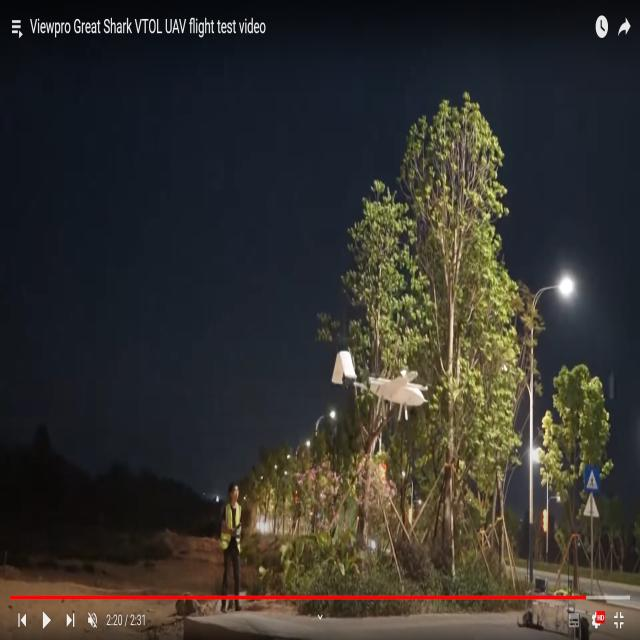iha: (363, 383, 399, 386)
